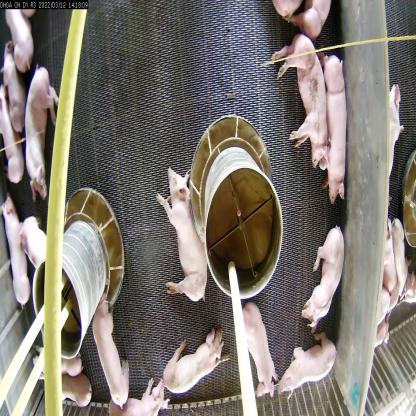Pig: (270, 37, 326, 177), (156, 166, 210, 308), (24, 65, 63, 197), (164, 324, 226, 396), (301, 229, 346, 325), (237, 301, 277, 400), (280, 330, 336, 400), (96, 290, 130, 405), (1, 187, 32, 307), (324, 56, 343, 209), (3, 0, 38, 70), (0, 84, 23, 186), (109, 379, 169, 416), (44, 373, 92, 415), (21, 204, 46, 270), (6, 43, 23, 133)
